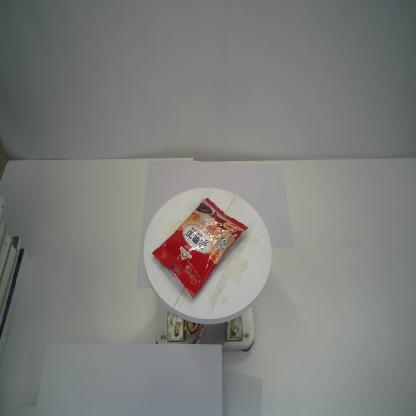Instant Drink: (151, 196, 249, 300)
